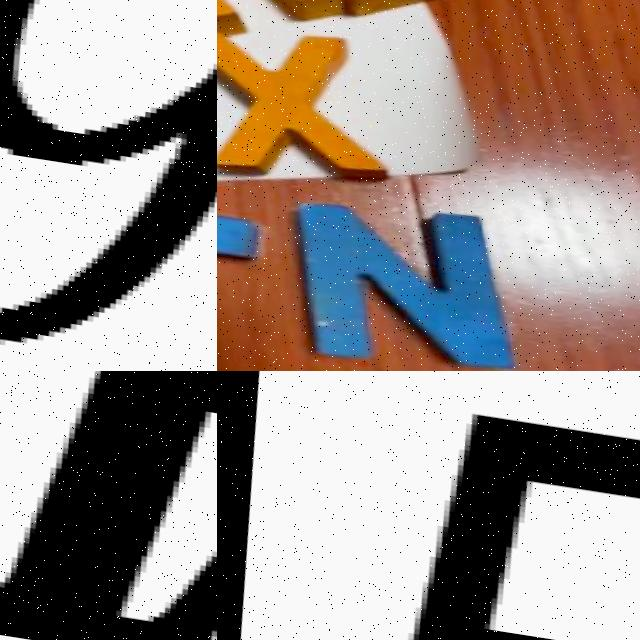9: (0, 0, 217, 371)
E: (0, 371, 217, 640), (410, 415, 640, 640)
L: (217, 0, 516, 43)
N: (281, 194, 530, 371)
T: (217, 187, 268, 371)
X: (217, 20, 381, 201)
